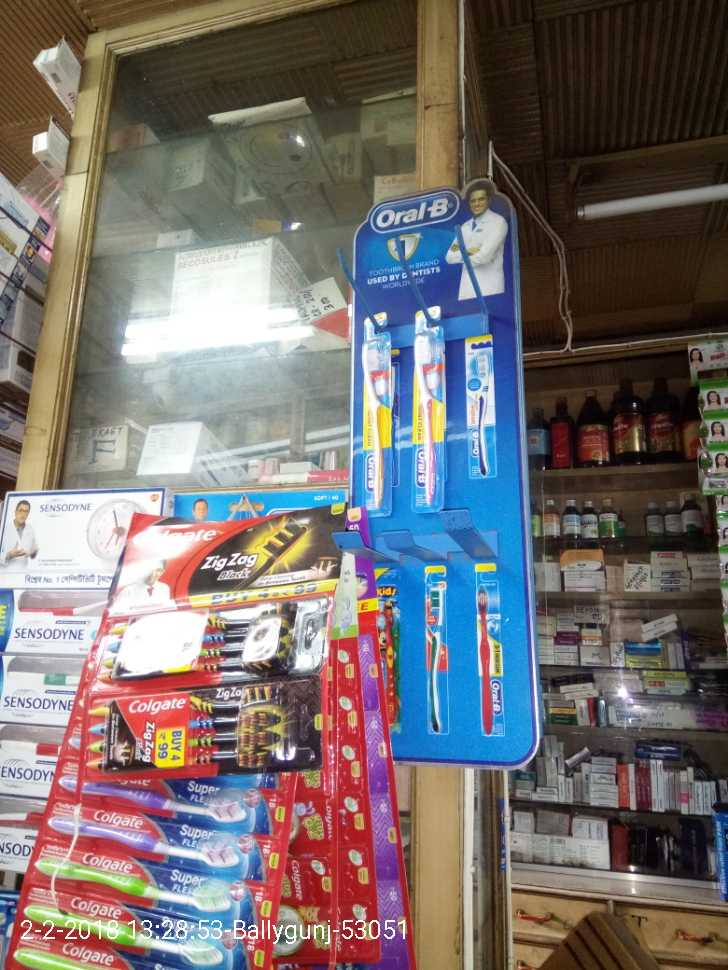oralb: (406, 328, 449, 503), (354, 344, 389, 522)
